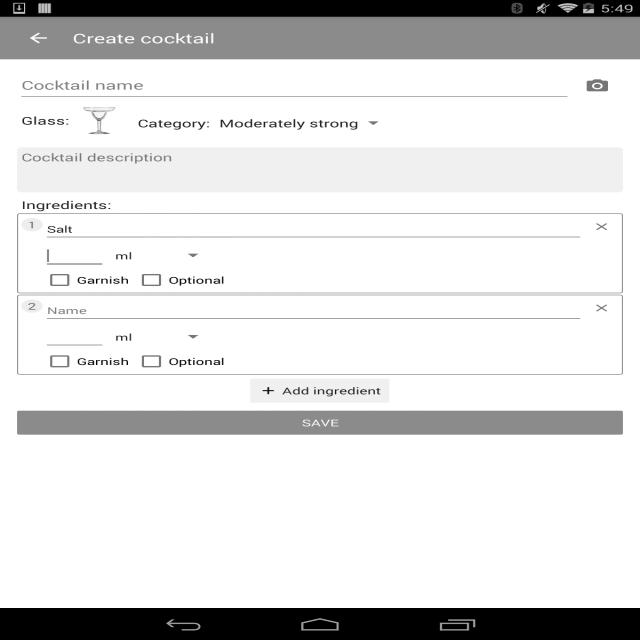Button: (17, 406, 623, 438), (246, 374, 393, 406)
CheckBox: (134, 269, 224, 291), (43, 269, 129, 291), (134, 351, 224, 372), (43, 351, 129, 372)
EditText: (17, 148, 623, 192), (17, 70, 572, 102), (42, 216, 584, 243), (42, 297, 584, 324), (42, 324, 106, 351), (42, 243, 106, 269)
ImageButton: (9, 19, 68, 57), (572, 70, 623, 102), (74, 105, 124, 136), (584, 297, 618, 319), (584, 216, 618, 237)
Spinner: (211, 115, 384, 132), (106, 248, 204, 264), (106, 329, 204, 345)
TextView: (17, 198, 623, 212), (72, 29, 215, 47), (211, 116, 367, 130), (106, 249, 186, 262), (137, 116, 210, 130), (106, 331, 186, 343), (22, 113, 70, 128), (21, 299, 43, 313), (21, 218, 43, 231)
